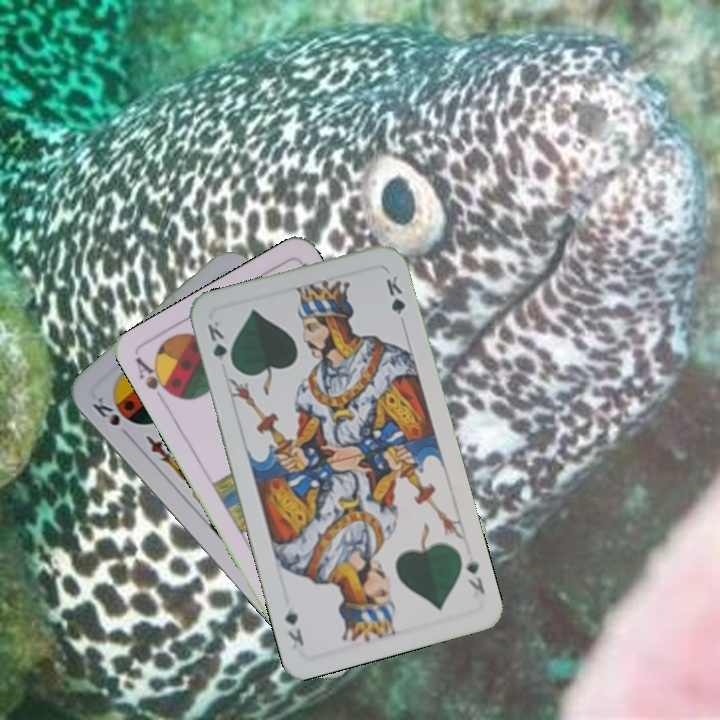GK: (203, 316, 236, 371), (462, 556, 488, 597)
SA: (131, 353, 178, 400)
SK: (88, 392, 123, 429)
